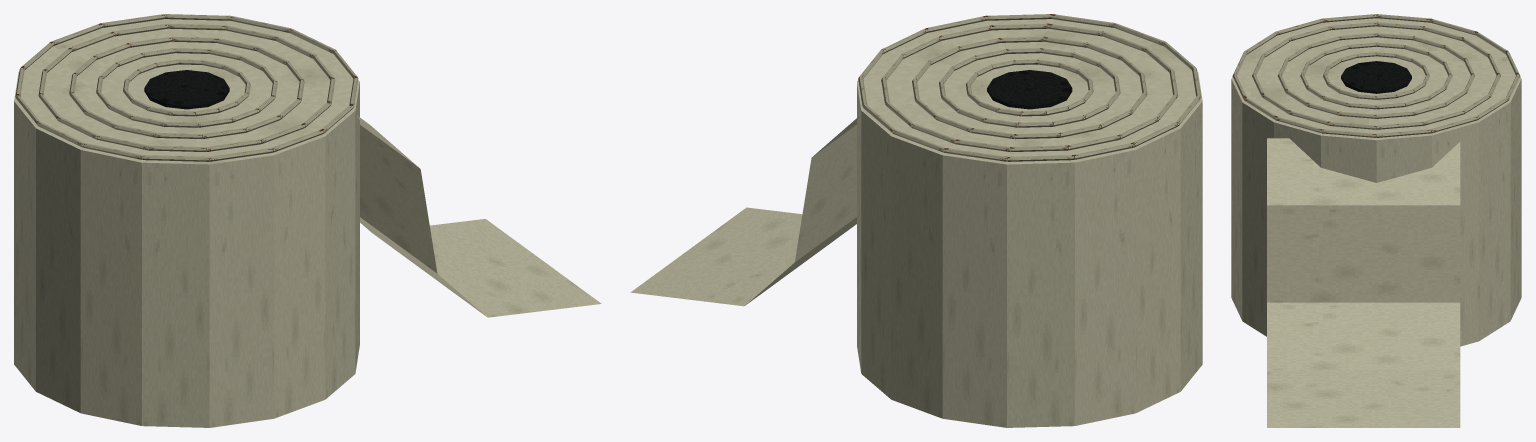
File: bandage_roll.glb
3 renders of one model, left to right at view 1: azimuth 30°, elevation 25°; view 2: azimuth 150°, elevation 25°; view 3: azimuth 270°, elevation 25°, orthographic. The views are drawn at different scales.
Parts seen in each view (by area): view 1: Bandage_Roll_Mesh.002; view 2: Bandage_Roll_Mesh.002; view 3: Bandage_Roll_Mesh.002.
Part boxes in pixels (x1,y1,x2,y2): Bandage_Roll_Mesh.002: [14, 14, 601, 427]; Bandage_Roll_Mesh.002: [630, 14, 1202, 427]; Bandage_Roll_Mesh.002: [1231, 14, 1521, 427].
Bounding box in the file's own units: 0.149 × 0.0766 × 0.09.
Materials: 1 (1 with a texture image).
